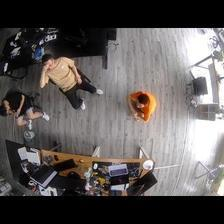normal: (40, 57, 104, 108), (1, 90, 50, 131), (128, 87, 158, 122)
